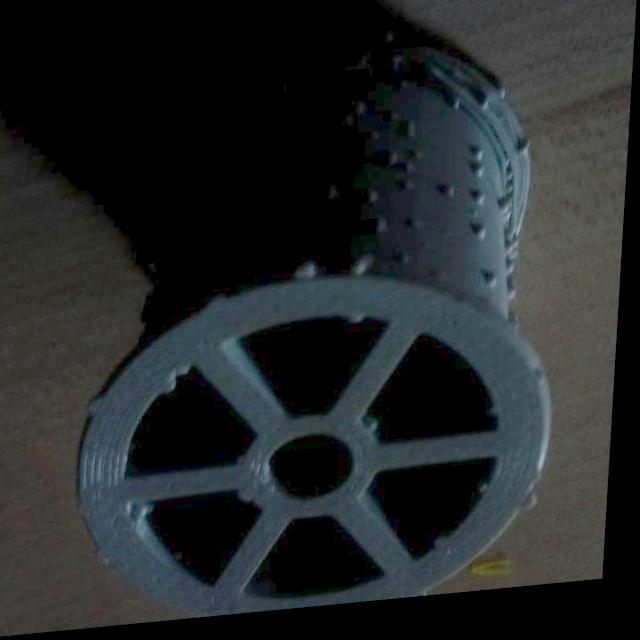zits: (290, 266, 327, 296), (85, 394, 114, 420), (245, 239, 272, 266), (316, 192, 342, 219), (368, 224, 394, 251), (347, 262, 376, 286), (350, 104, 378, 128), (359, 191, 386, 215), (157, 380, 186, 402), (526, 502, 550, 528), (374, 34, 402, 56), (367, 419, 390, 445), (476, 100, 498, 124), (480, 486, 503, 508), (506, 292, 530, 313), (306, 102, 328, 124), (442, 192, 462, 216), (469, 174, 492, 194), (487, 280, 506, 304), (439, 542, 464, 560), (388, 154, 408, 176), (350, 315, 369, 338), (499, 201, 518, 224), (406, 224, 430, 242), (448, 104, 469, 124), (246, 198, 265, 220), (499, 94, 516, 117), (474, 235, 494, 254), (520, 150, 540, 169), (468, 154, 489, 172), (179, 549, 200, 567), (406, 126, 424, 146), (504, 272, 524, 290), (470, 200, 491, 217), (368, 135, 388, 152), (401, 187, 420, 204), (341, 118, 358, 136)
